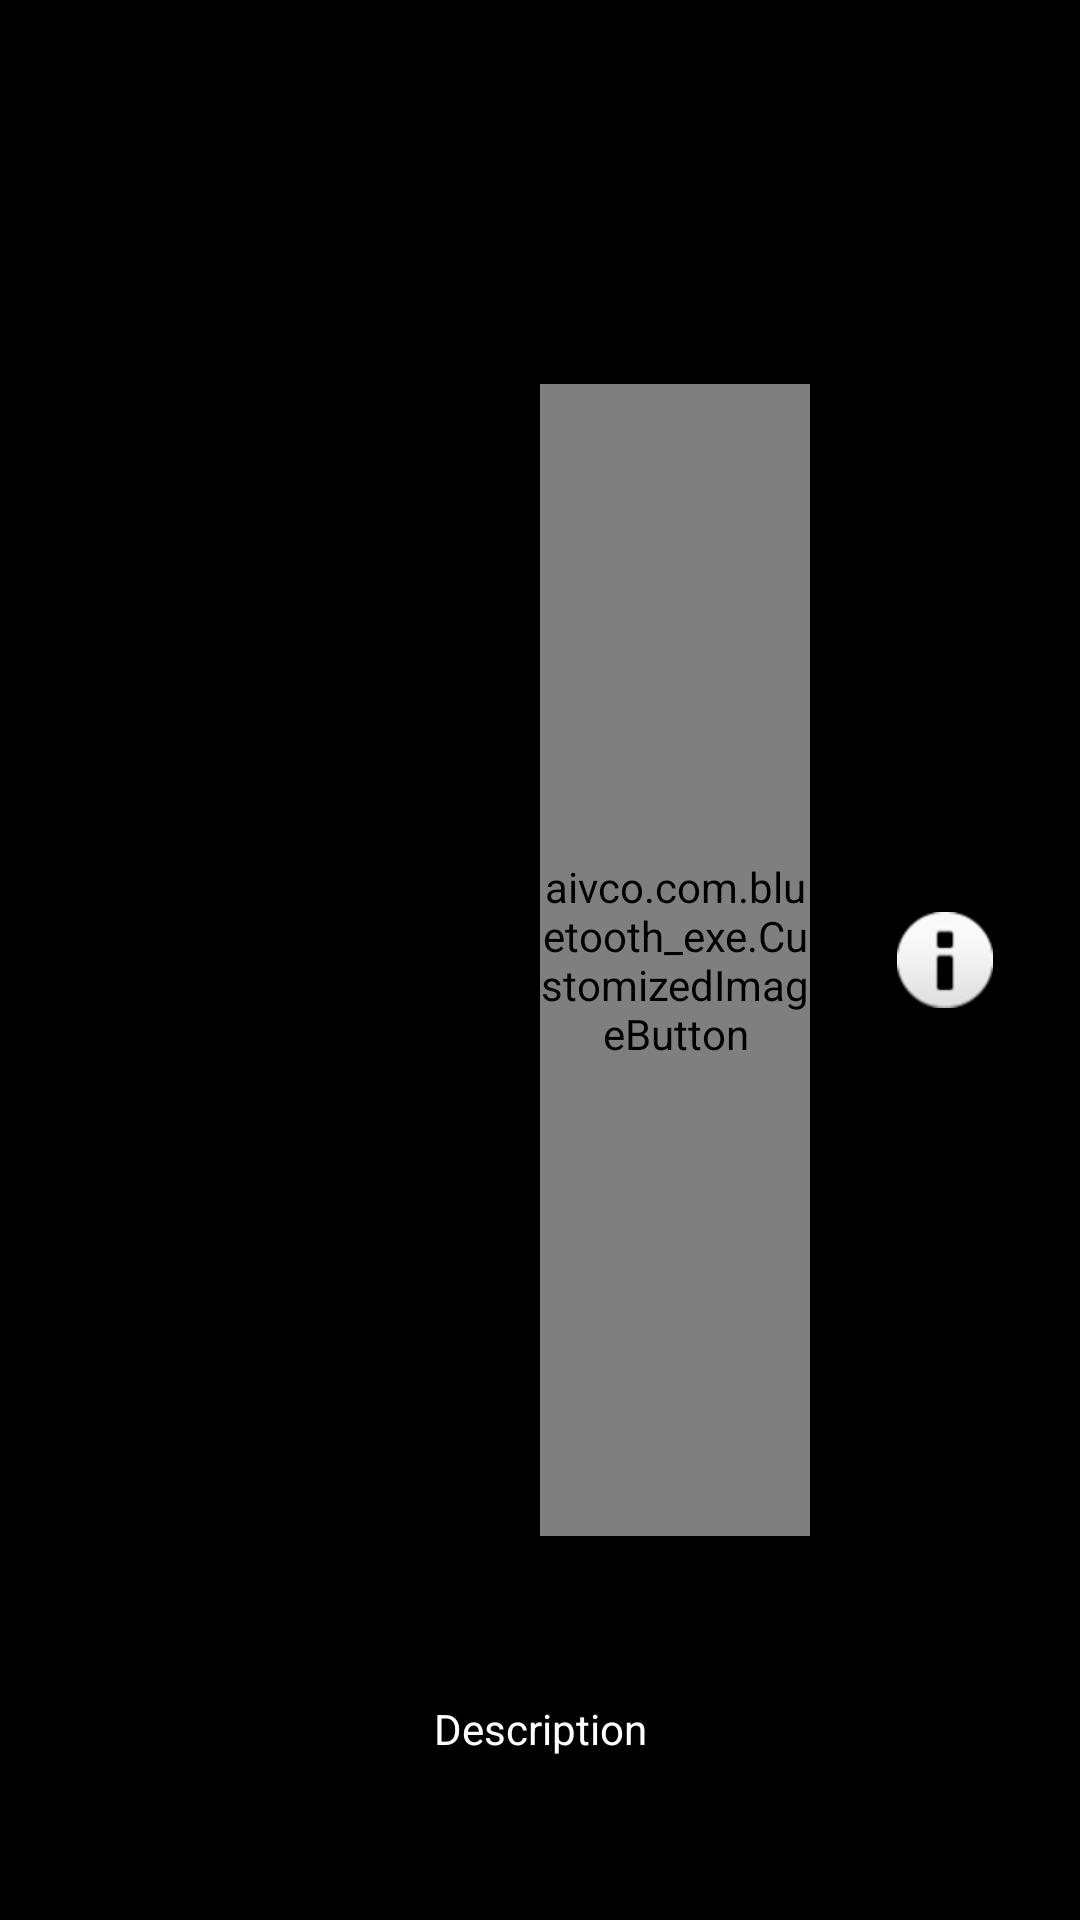

Where icons sit on this 1080px×1920px app screen, as [x1, y1, x2, y2]:
info: [897, 912, 993, 1008]
